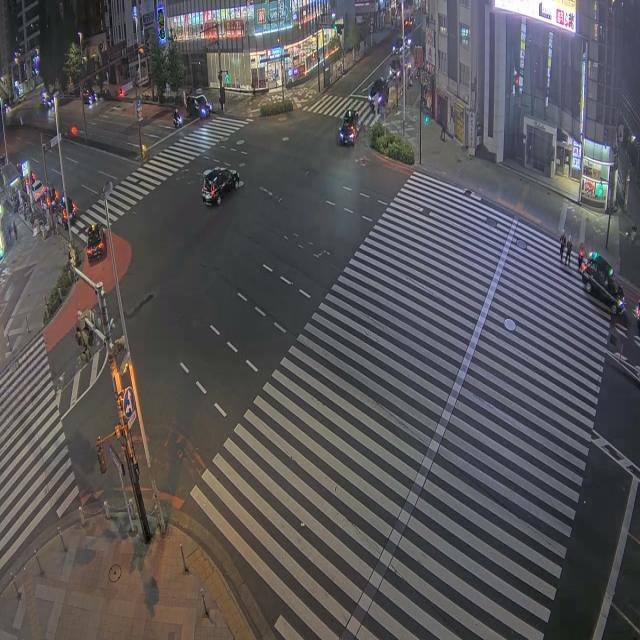car: (582, 252, 624, 314), (202, 168, 239, 205), (52, 190, 77, 228), (86, 224, 105, 262), (339, 110, 359, 145), (369, 78, 388, 108), (187, 96, 213, 117), (55, 204, 68, 229), (32, 180, 46, 202), (389, 58, 402, 79), (83, 88, 96, 105), (392, 36, 403, 55), (405, 16, 413, 31), (405, 34, 412, 47)
motorcycle: (173, 114, 182, 128), (636, 300, 639, 329)
